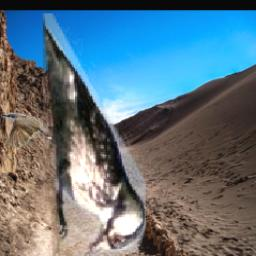Cuckoo: (1, 112, 70, 147)
Woodpecker: (43, 14, 146, 256)
